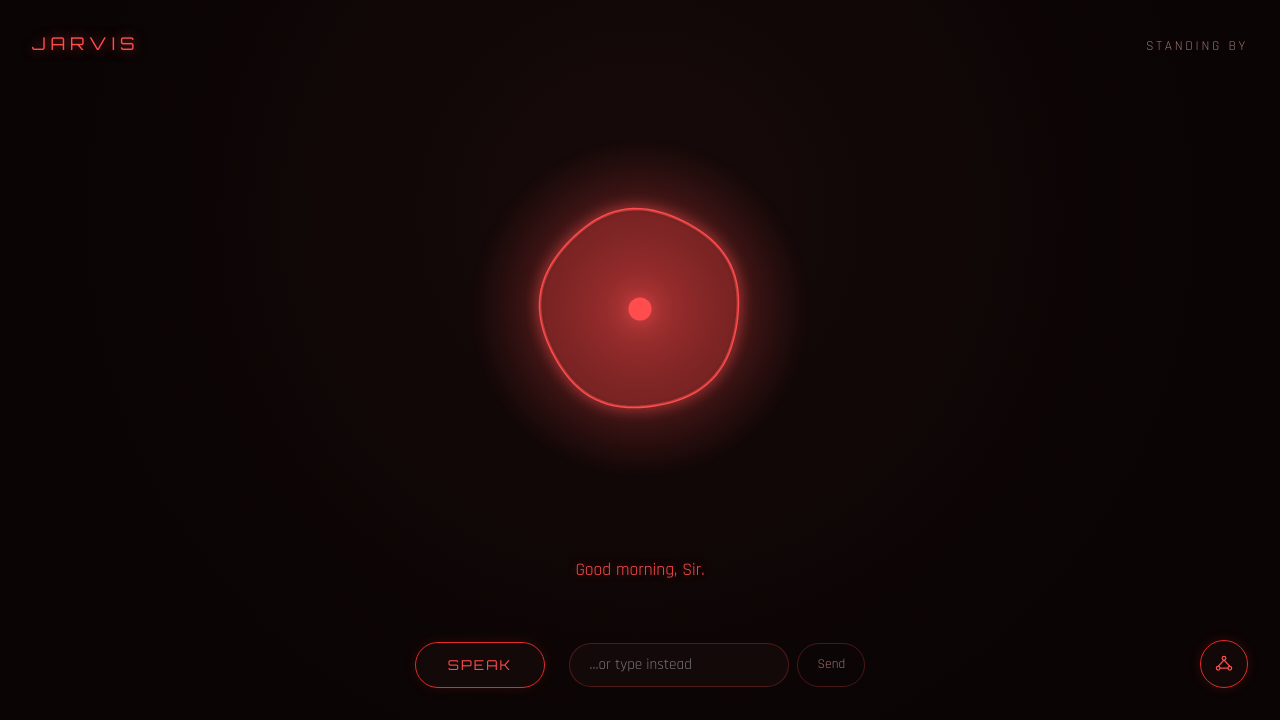
Test: App › sends typed text through the agent backend and displays the reply
Expected: the text "Standing by" is shown, [1146,37,1248,55]
In the field: {"x": 679, "y": 665} [569,643,789,687], type "hello jarvis"
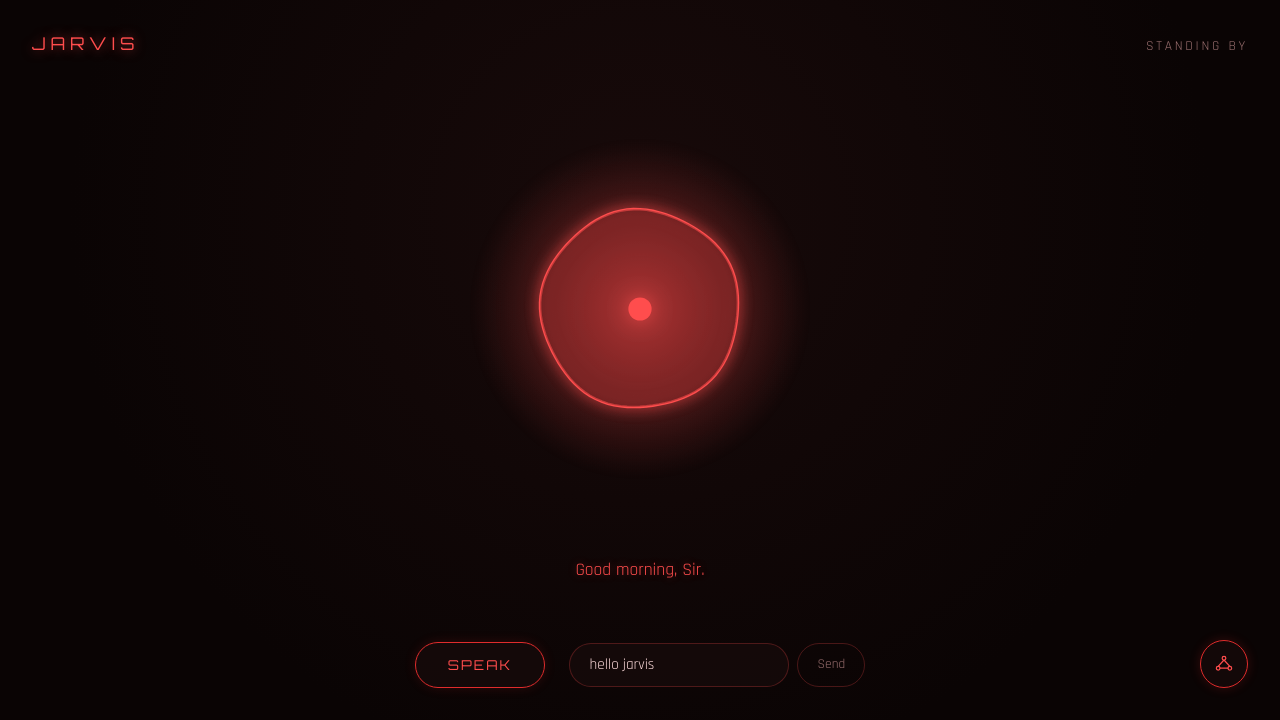
Click the button "Send": {"x": 831, "y": 665} [797,643,865,687]
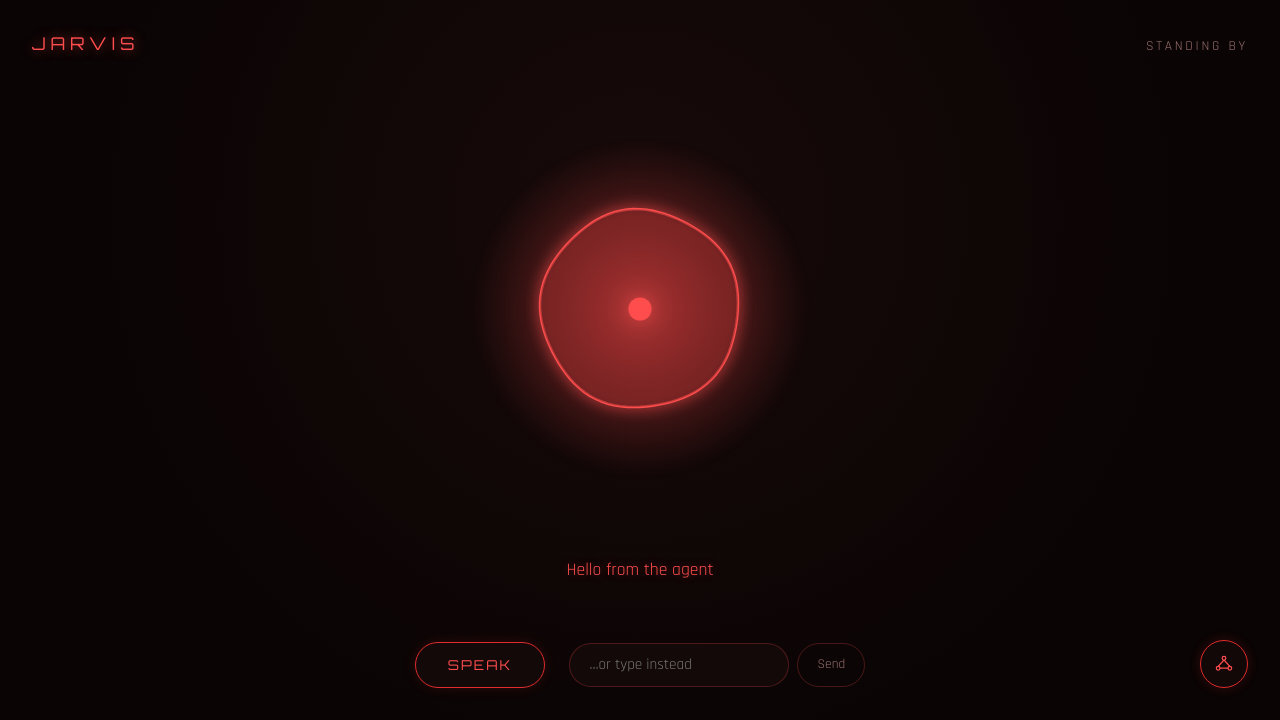
Expected: the text "Standing by" is shown, [1146,37,1248,55]
Result: the text "Hello from the agent" is shown at [566,559,714,581]
